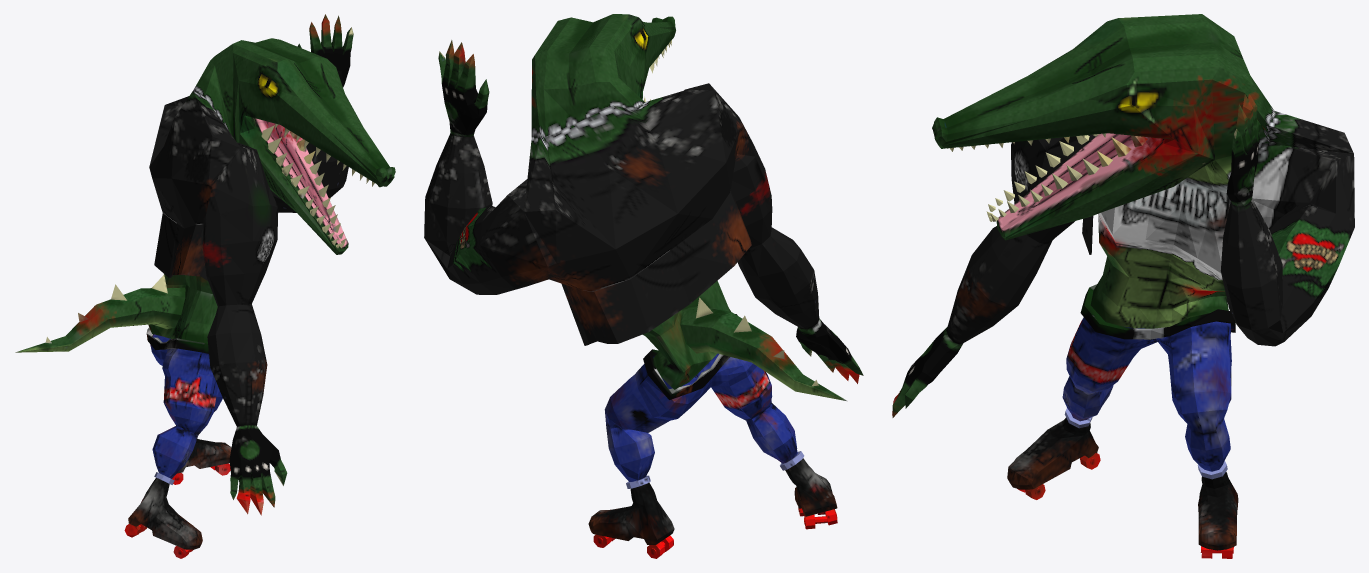
File: cocodrilaBonesSelect_000043.obj
The picture shows the model from 3 angles, left to right: view 1: azimuth 30°, elevation 25°; view 2: azimuth 150°, elevation 25°; view 3: azimuth 270°, elevation 25°; orthographic projection. The views are drawn at different scales.
Parts seen in each view (by area): view 1: Crocodile.002_Cylinder.002; view 2: Crocodile.002_Cylinder.002; view 3: Crocodile.002_Cylinder.002.
Part boxes in pixels (x1=…): Crocodile.002_Cylinder.002: x1=15, y1=14, x2=395, y2=558; Crocodile.002_Cylinder.002: x1=424, y1=14, x2=863, y2=558; Crocodile.002_Cylinder.002: x1=892, y1=14, x2=1354, y2=558.
Bounding box in the file's own units: 5.22 × 6.18 × 4.66.
